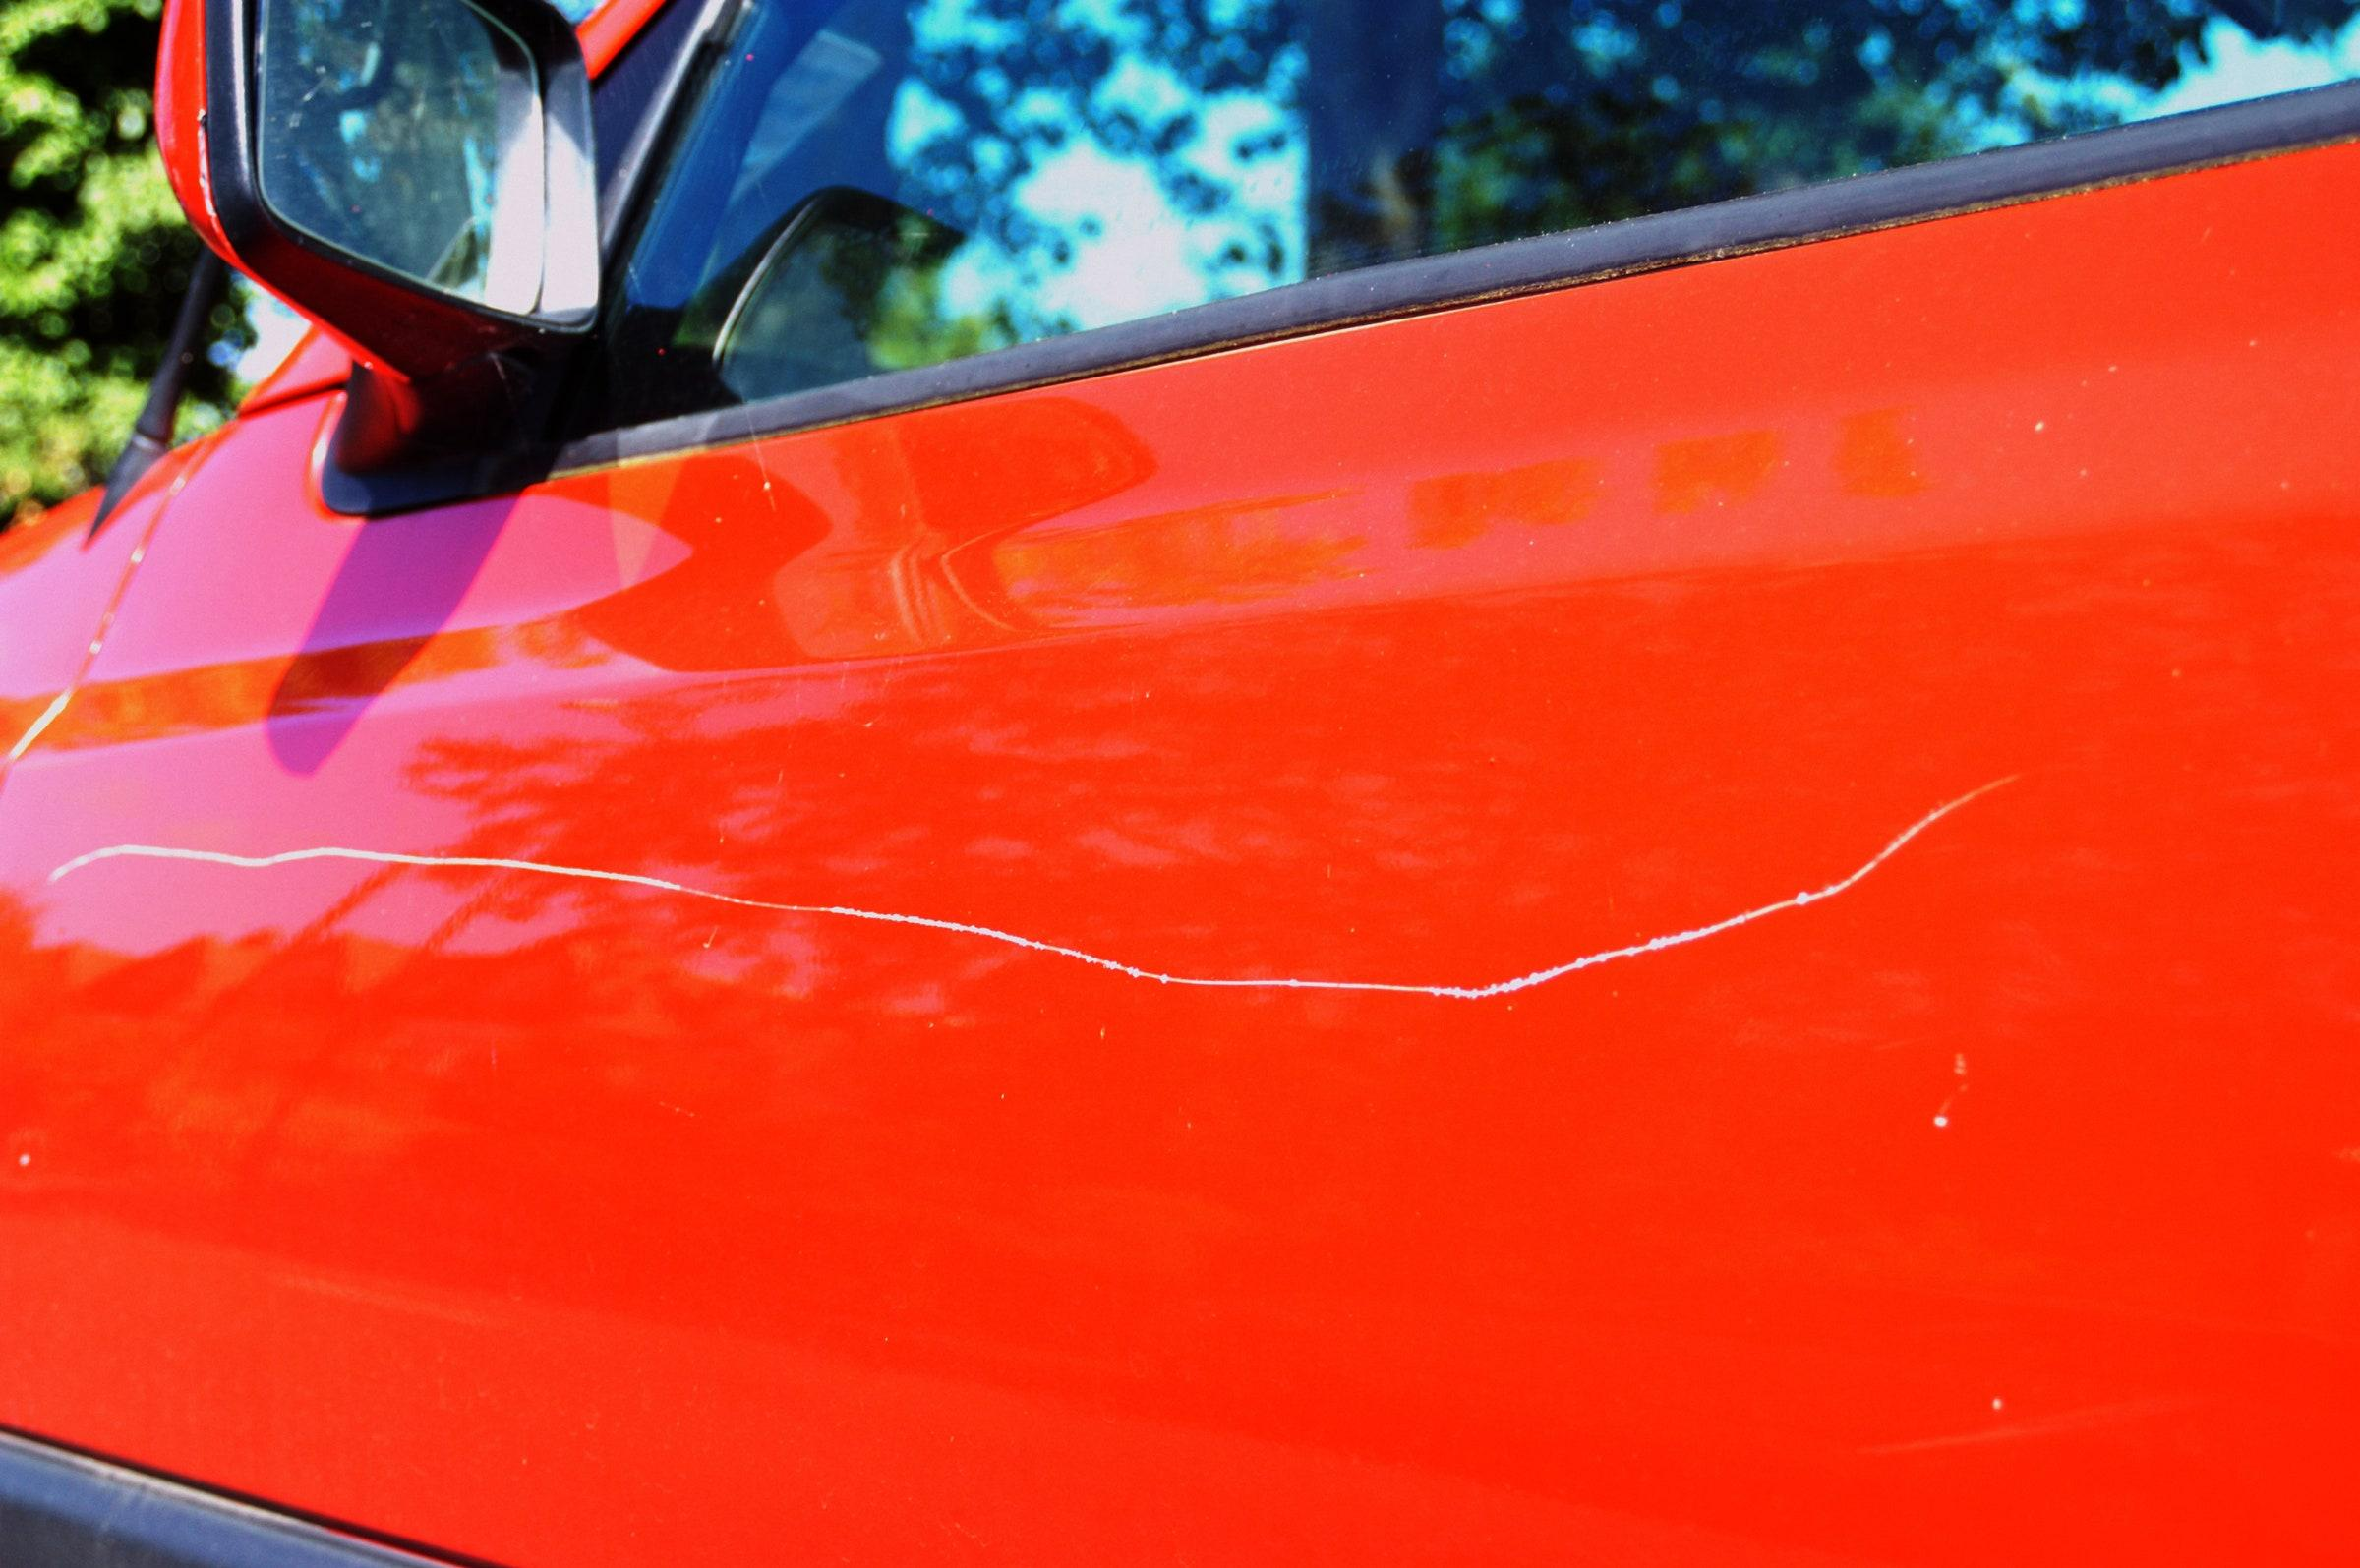scratch: (14, 728, 2075, 1046)
